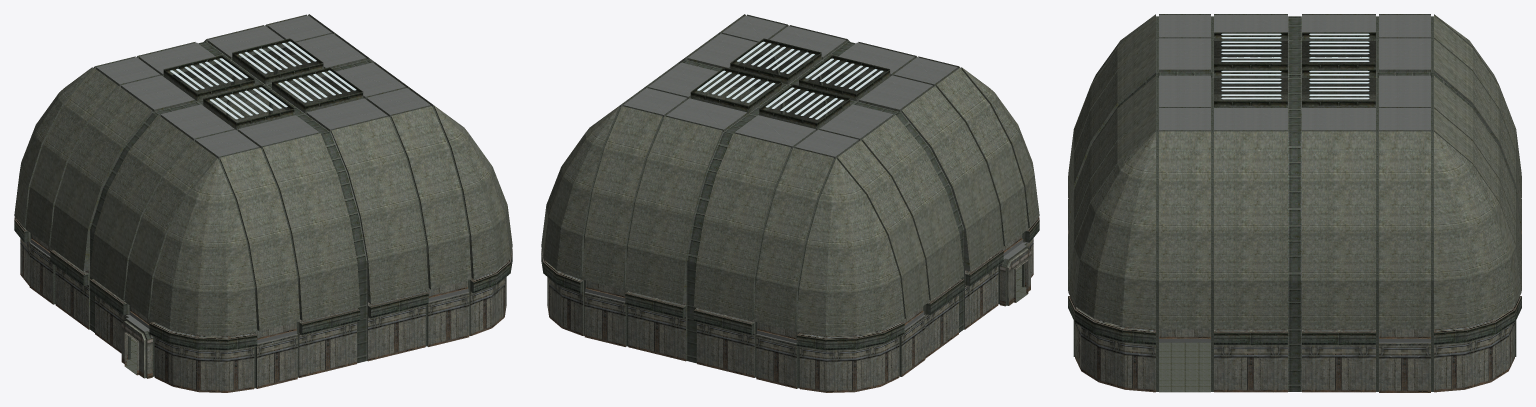
Rendered from poi_all_impl_bunker_crimelord_retreat_s01_r3_armory_mesh_r3.fbx.
The picture shows the model from 3 angles, left to right: view 1: azimuth 30°, elevation 25°; view 2: azimuth 150°, elevation 25°; view 3: azimuth 270°, elevation 25°; orthographic projection. The views are drawn at different scales.
Visible parts, largest first — view 1: mesh_node; view 2: mesh_node; view 3: mesh_node.
Part boxes in pixels (x1,y1,x2,y2): mesh_node: (14,14,512,392); mesh_node: (541,14,1039,392); mesh_node: (1068,14,1521,392).
Bounding box in the file's own units: 33.5 × 18.7 × 33.
